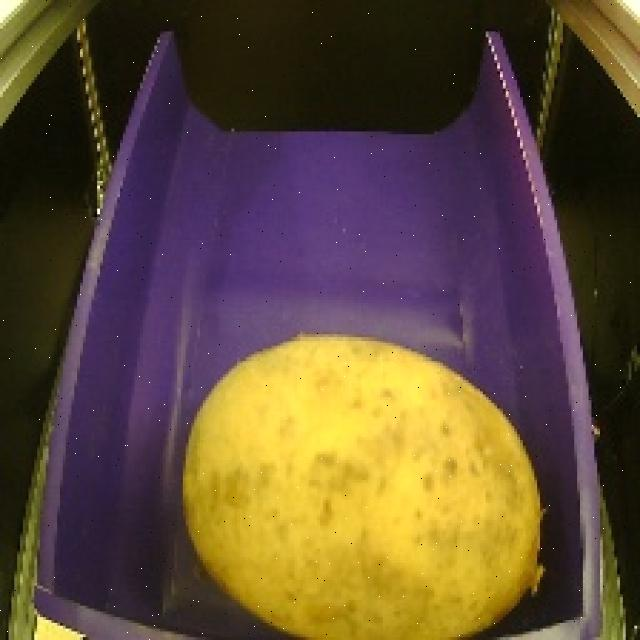full_potato: (167, 318, 560, 640)
